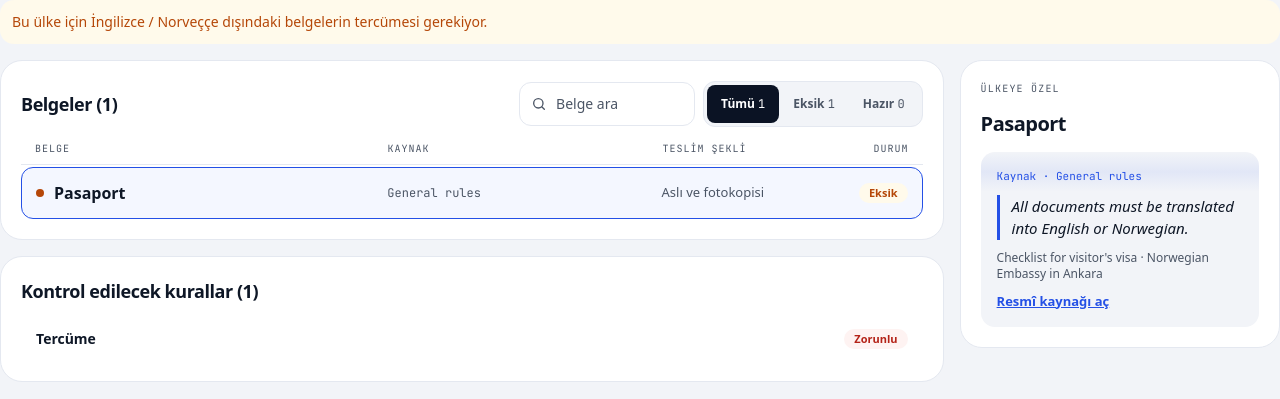
it: ChecklistView › shows upload status and filters by it when ready items are known
Later steps or results of the test are not shown.
Expected: the button "Pasaport General rules Aslı ve fotokopisi Eksik" is shown, [21,167,923,219]
What coordinates should you click on to do the following:
click the button "Hazır 0"
I would click on:
 (884, 104)
Its box is [849,85,918,123].
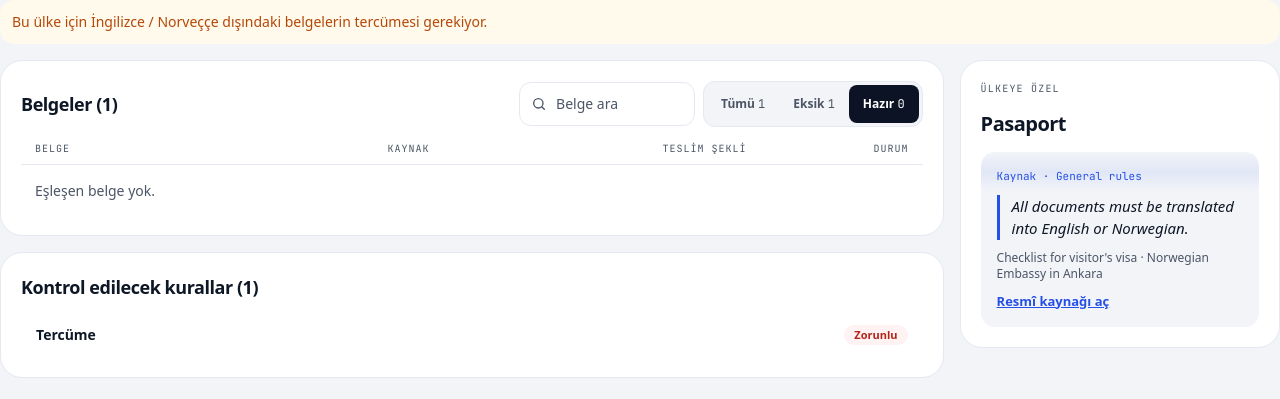
Now the text "Eşleşen belge yok." is shown, box [35,181,155,200]
